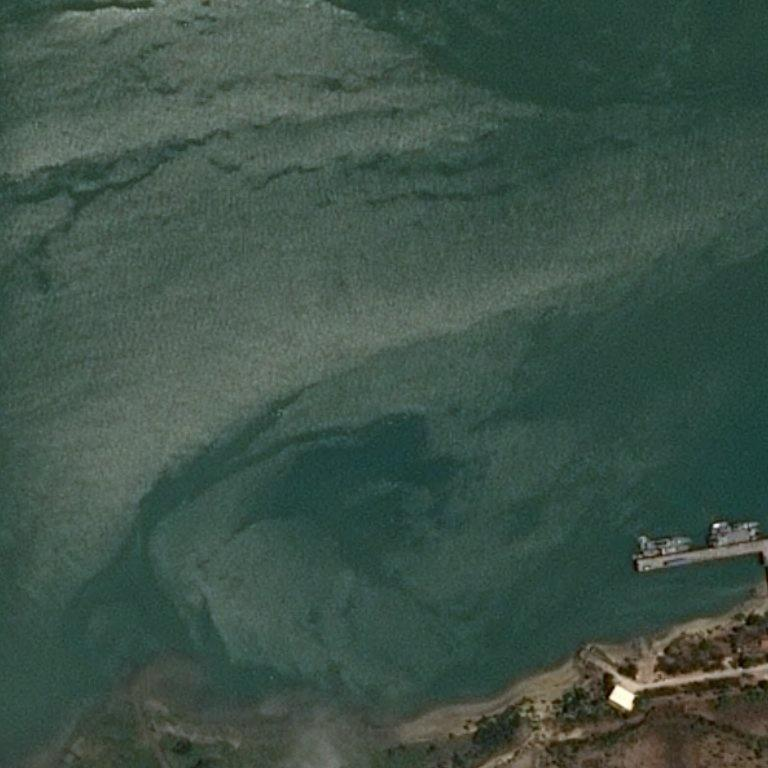ship: (708, 526, 766, 549), (632, 533, 694, 551), (758, 531, 762, 534), (689, 538, 692, 541), (640, 539, 643, 542), (695, 532, 697, 535), (617, 545, 620, 546), (712, 545, 712, 545)
